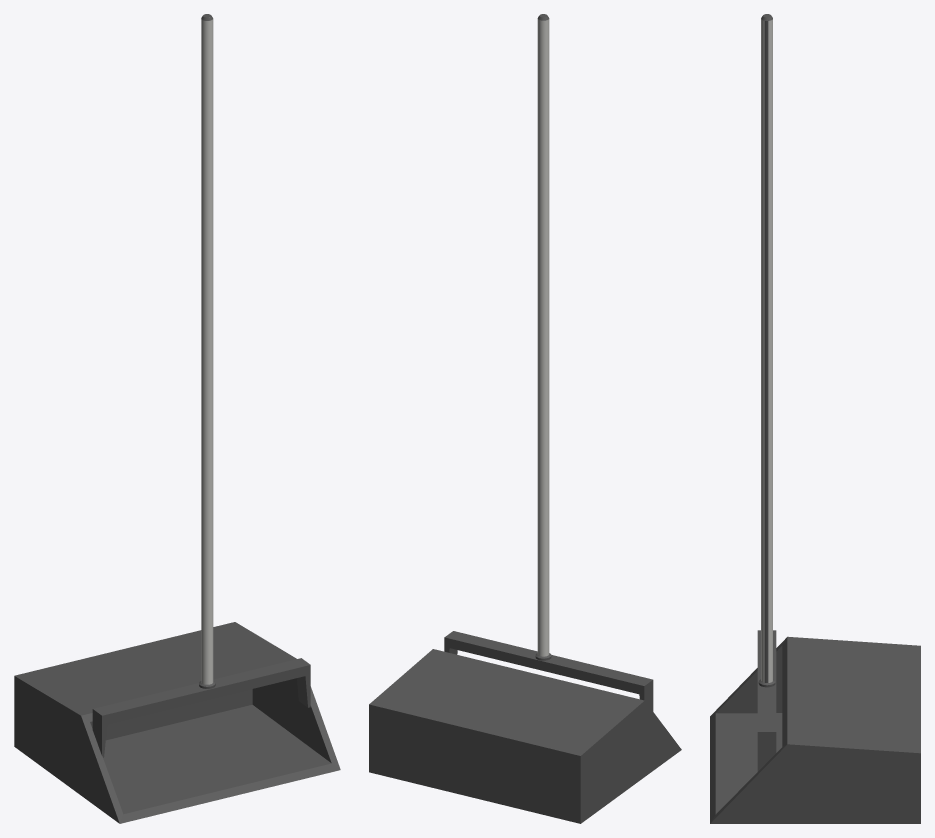
The model's file is BroomPan.FBX.
3 views of the same model, side by side, from view 1: azimuth 30°, elevation 25°; view 2: azimuth 150°, elevation 25°; view 3: azimuth 270°, elevation 25° (orthographic). The views are drawn at different scales.
Parts seen in each view (by area): view 1: BroomPan; view 2: BroomPan; view 3: BroomPan.
Part boxes in pixels (left/top/right/bottom): BroomPan: left=14, top=14, right=340, bottom=823; BroomPan: left=369, top=14, right=681, bottom=823; BroomPan: left=710, top=14, right=920, bottom=823.
Bounding box in the file's own units: 34.83 × 114 × 28.86.
